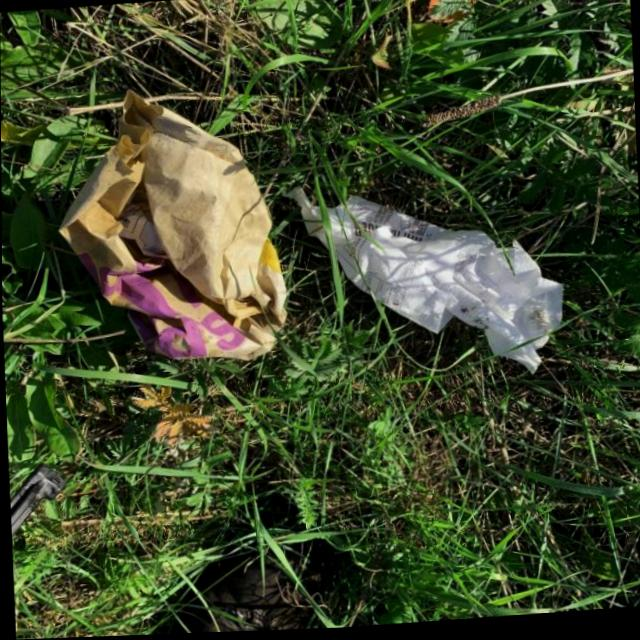Paper: (49, 77, 290, 375), (284, 169, 570, 395)
